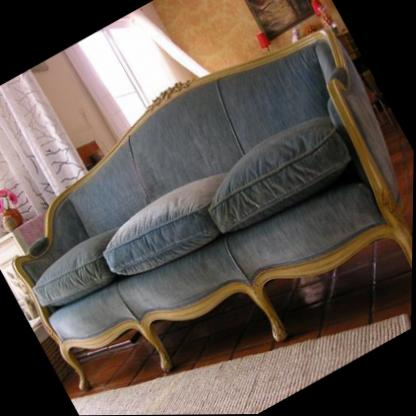Carpet: (69, 315, 412, 416)
Sofa: (0, 0, 416, 416)
